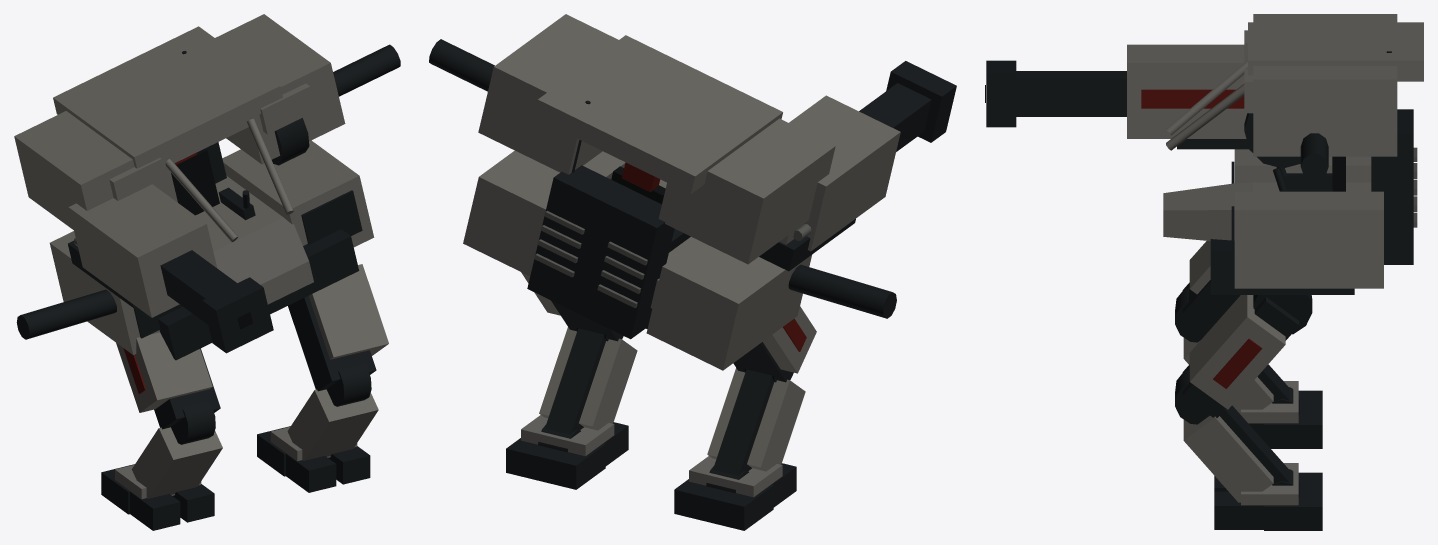
3 renders of one model, left to right at view 1: azimuth 30°, elevation 25°; view 2: azimuth 150°, elevation 25°; view 3: azimuth 270°, elevation 25°, orthographic. The views are drawn at different scales.
Parts seen in each view (by area): view 1: mech-torso-painted, mech-cannon-recoil-painted, mech-hip-1-painted, mech-hip-0-painted, mech-knee-0-painted, mech-knee-1-painted, mech-ankle-1-painted, mech-ankle-0-painted, mech-seat-pilot-painted, mech-cannon-pitch-painted; view 2: mech-torso-painted, mech-cannon-recoil-painted, mech-knee-1-painted, mech-knee-0-painted, mech-ankle-0-painted, mech-ankle-1-painted, mech-hip-0-painted, mech-cannon-pitch-painted, mech-seat-pilot-painted, mech-hip-1-painted; view 3: mech-torso-painted, mech-cannon-recoil-painted, mech-hip-1-painted, mech-knee-1-painted, mech-ankle-1-painted, mech-ankle-0-painted, mech-knee-0-painted, mech-hip-0-painted, mech-seat-pilot-painted, mech-cannon-pitch-painted.
Part boxes in pixels (left/top/right/bottom): mech-torso-painted: left=14, top=14, right=400, bottom=360; mech-cannon-recoil-painted: left=68, top=184, right=273, bottom=353; mech-hip-1-painted: left=288, top=264, right=388, bottom=391; mech-hip-0-painted: left=116, top=332, right=220, bottom=429; mech-knee-0-painted: left=131, top=401, right=222, bottom=498; mech-knee-1-painted: left=287, top=363, right=378, bottom=460; mech-ankle-1-painted: left=257, top=426, right=370, bottom=492; mech-ankle-0-painted: left=101, top=464, right=214, bottom=530; mech-seat-pilot-painted: left=171, top=148, right=255, bottom=220; mech-cannon-pitch-painted: left=68, top=238, right=136, bottom=307; mech-torso-painted: left=429, top=14, right=896, bottom=370; mech-cannon-recoil-painted: left=779, top=61, right=956, bottom=251; mech-knee-1-painted: left=539, top=327, right=637, bottom=434; mech-knee-0-painted: left=707, top=368, right=805, bottom=475; mech-ankle-0-painted: left=674, top=456, right=796, bottom=530; mech-ankle-1-painted: left=506, top=415, right=628, bottom=489; mech-hip-0-painted: left=733, top=306, right=816, bottom=382; mech-cannon-pitch-painted: left=759, top=219, right=855, bottom=271; mech-seat-pilot-painted: left=611, top=162, right=690, bottom=252; mech-hip-1-painted: left=521, top=272, right=621, bottom=341; mech-torso-painted: left=1163, top=14, right=1423, bottom=294; mech-cannon-recoil-painted: left=985, top=44, right=1246, bottom=138; mech-hip-1-painted: left=1182, top=295, right=1312, bottom=417; mech-knee-1-painted: left=1175, top=369, right=1289, bottom=502; mech-ankle-1-painted: left=1214, top=463, right=1322, bottom=530; mech-ankle-0-painted: left=1241, top=381, right=1322, bottom=448; mech-knee-0-painted: left=1175, top=287, right=1289, bottom=414; mech-hip-0-painted: left=1182, top=241, right=1240, bottom=331; mech-seat-pilot-painted: left=1273, top=156, right=1345, bottom=191; mech-cannon-pitch-painted: left=1177, top=139, right=1248, bottom=149.
Size of the model in its own units: 27.26 by 26.61 by 24.1.
